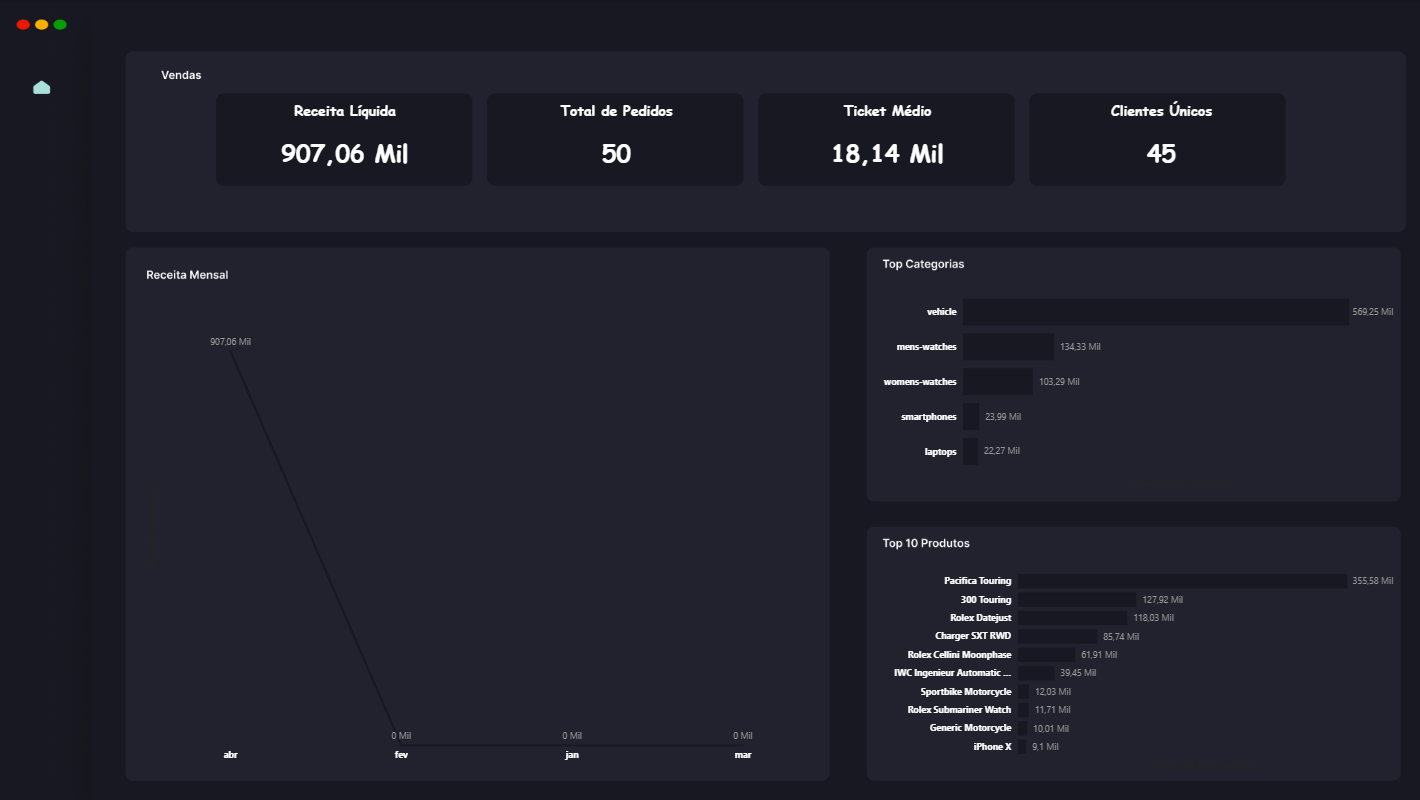

Layout of this report page (visuals, bound fields, positions):
{"tool":"powerbi","page":{"name":"Página 1","canvas":[1920,1080],"ordinal":0},"visuals":[{"type":"cardVisual","title":"Receita Líquida","fields":{"Data":["Sum(gold kpis_overview.net_revenue)"]},"box":[296.3,134.7,342,113.1],"z":0},{"type":"cardVisual","title":"Total de Pedidos","fields":{"Data":["Sum(gold kpis_overview.total_orders)"]},"box":[661.2,134.7,343.4,113.1],"z":1000},{"type":"cardVisual","title":"Ticket Médio","fields":{"Data":["Sum(gold kpis_overview.avg_ticket)"]},"box":[1026.1,134.7,343.4,113.1],"z":2000},{"type":"cardVisual","title":"Clientes Únicos","fields":{"Data":["Sum(gold kpis_overview.total_customers)"]},"box":[1395.1,134.7,343.4,113.1],"z":3000},{"type":"barChart","fields":{"Category":["gold top_categories.category"],"Y":["Sum(gold top_categories.net_revenue)"]},"box":[1186.4,370.3,697.6,293.6],"z":4000},{"type":"barChart","fields":{"Category":["gold top_products.product_name"],"Y":["Sum(gold top_products.net_revenue)"]},"box":[1186.4,750.1,697.6,293.6],"z":4001},{"type":"lineChart","fields":{"Category":["Calendario.Mês"],"Y":["gold monthly_revenue.Receita Mensal"]},"box":[195.3,405.3,904.9,628.9],"z":4002}]}

Visuals, with their boxes on the page's 1920x1080 design canvas (x1, y1, x2, y2). These are canvas units, not pixel positions in the 1420x800 screenshot, which may show the page scaled, cropped or inside an application window:
"Receita Líquida" cardVisual: crop(296, 135, 638, 248)
"Total de Pedidos" cardVisual: crop(661, 135, 1005, 248)
"Ticket Médio" cardVisual: crop(1026, 135, 1370, 248)
"Clientes Únicos" cardVisual: crop(1395, 135, 1738, 248)
barChart - gold top_categories.category x Sum(gold top_categories.net_revenue): crop(1186, 370, 1884, 664)
barChart - gold top_products.product_name x Sum(gold top_products.net_revenue): crop(1186, 750, 1884, 1044)
lineChart - Calendario.Mês x gold monthly_revenue.Receita Mensal: crop(195, 405, 1100, 1034)
